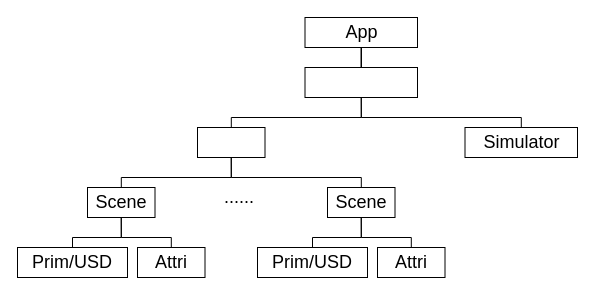
Some shapes in this 595 by 295 pixel diagram are drawn without their labels. The shapes that lost their labels are listed below. From the top down, each one's box as (x1, y1, x2, y2) in pixels, then its label:
(304, 66, 418, 98): World
(196, 126, 265, 158): Stage
